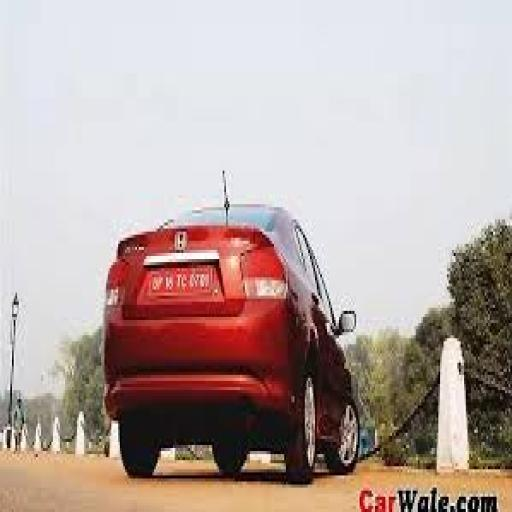License: (144, 264, 216, 300)
